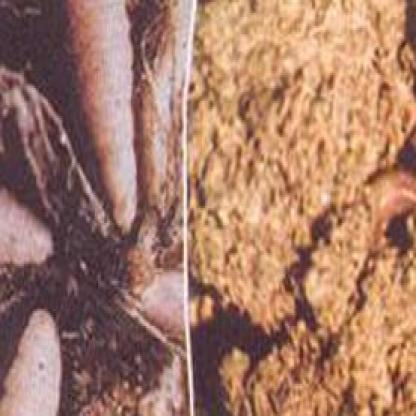whorl-maggot: (64, 2, 139, 232), (0, 309, 63, 414), (2, 190, 57, 265)
